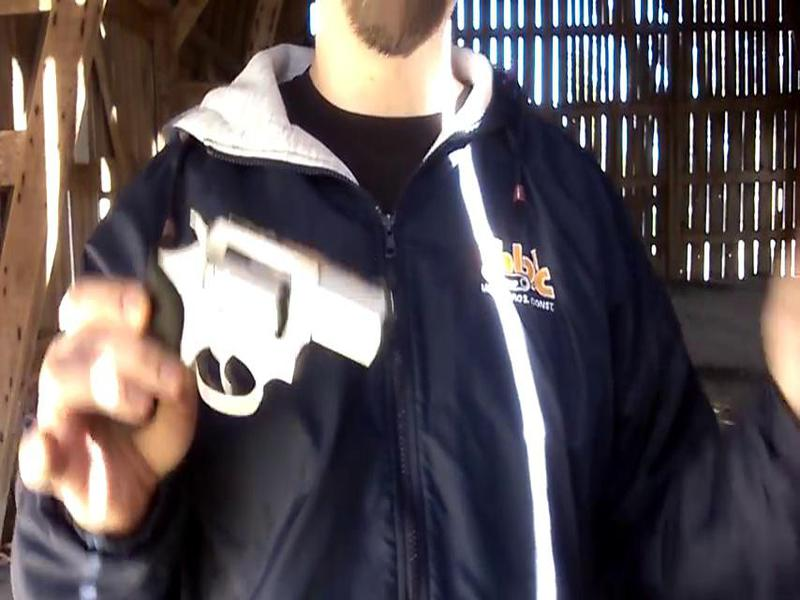Revolver: (144, 196, 413, 425)
